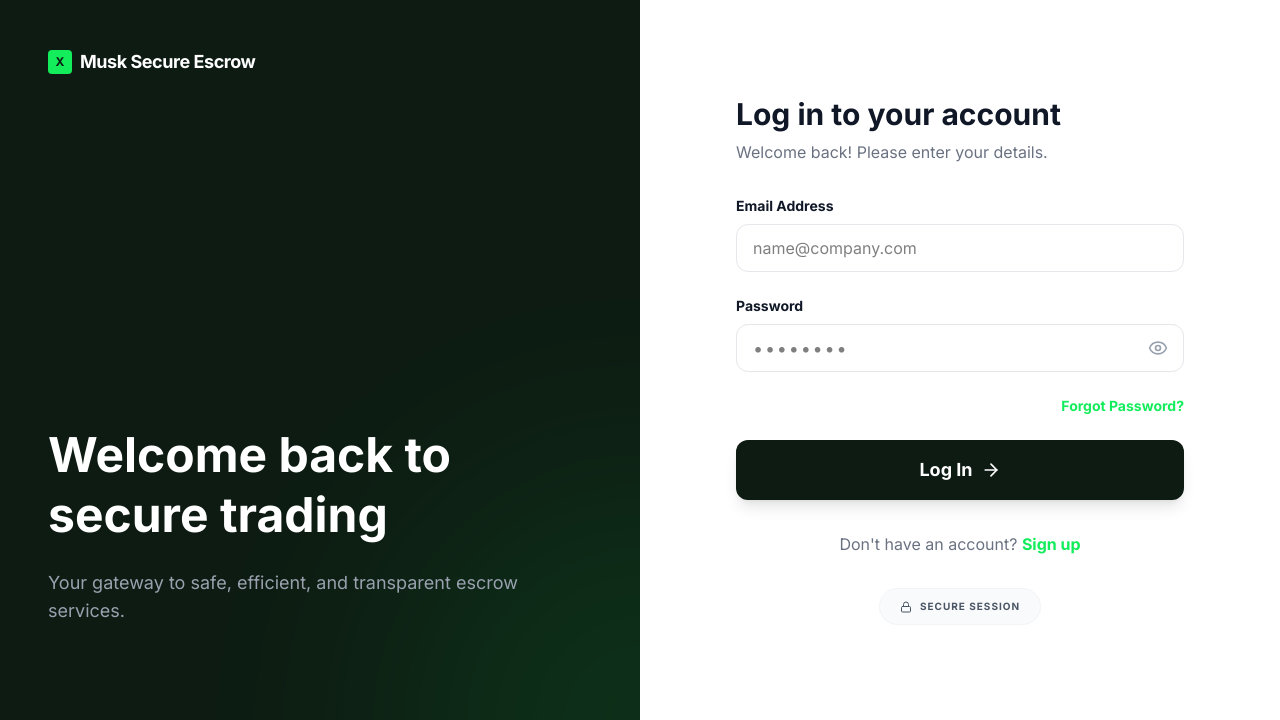
Test case: Login Flow › should show error message for invalid credentials
Type "invalid@test.com" into the field with test id "email-input" at (960, 248), box left=736, top=224, right=1184, bottom=272
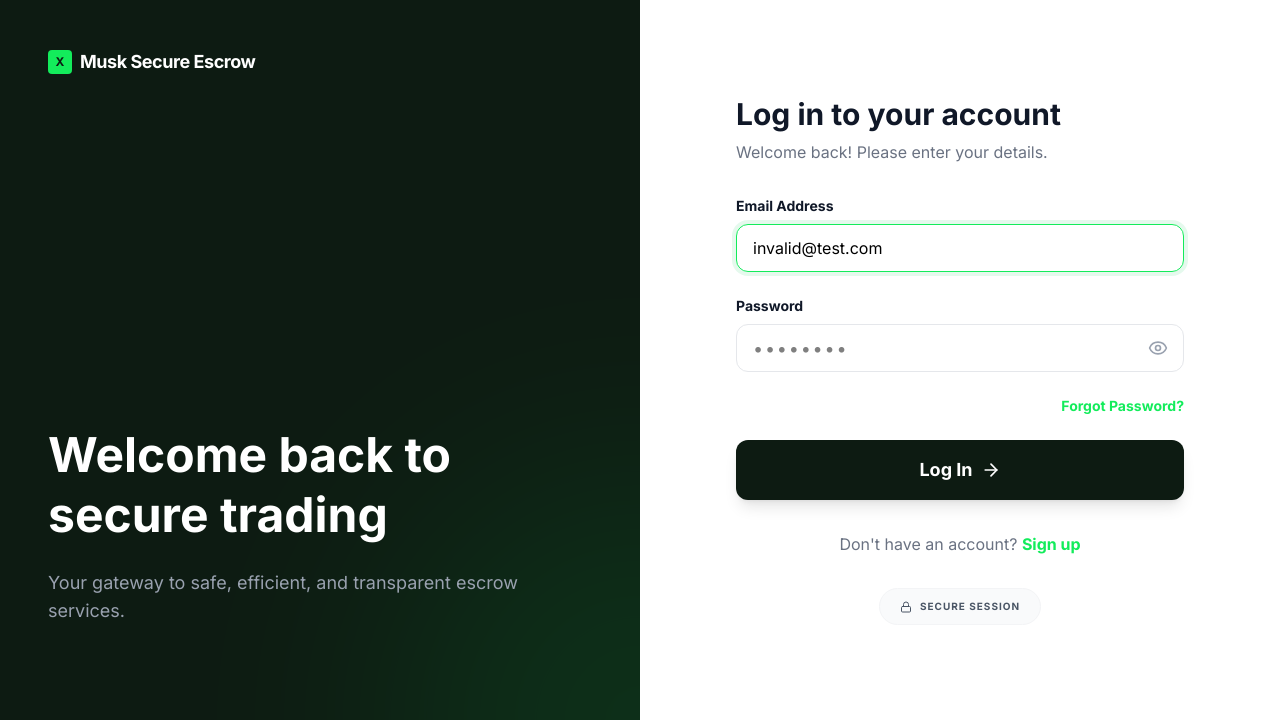
Type "wrongpassword" into the password field with test id "password-input" at (960, 348), box left=736, top=324, right=1184, bottom=372
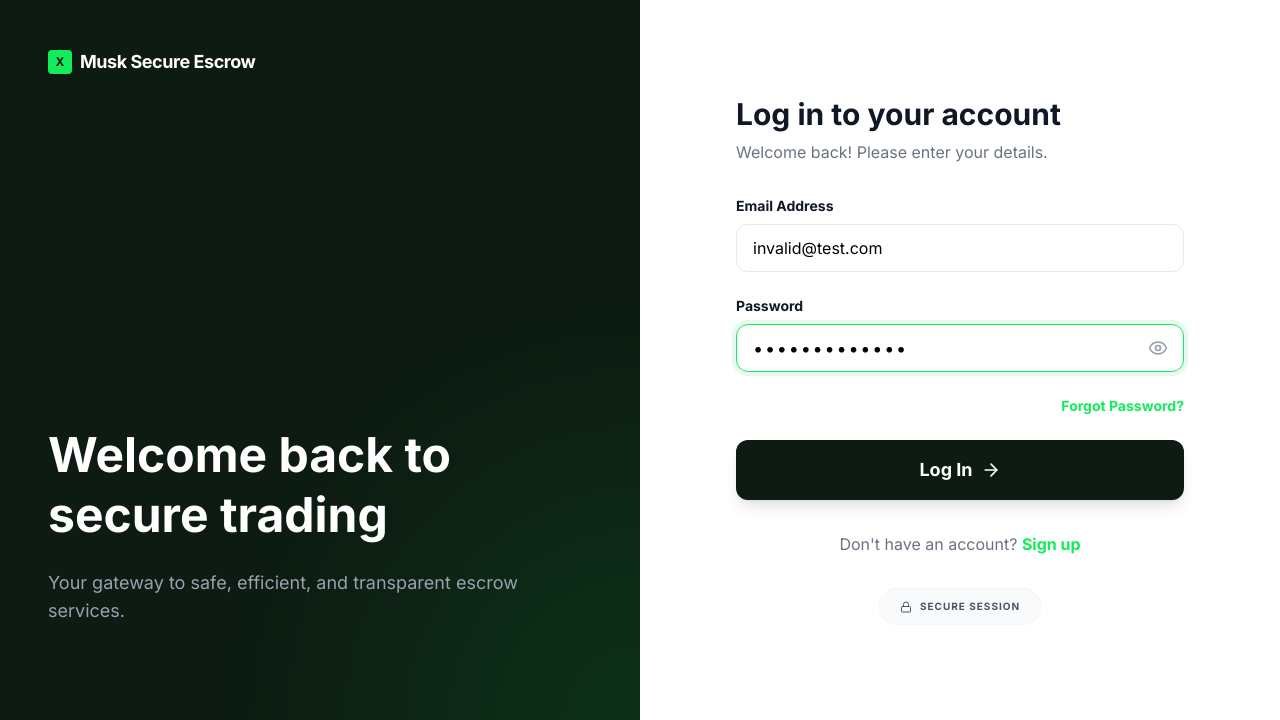
Click the button with test id "login-button" at (960, 470), box left=736, top=440, right=1184, bottom=500
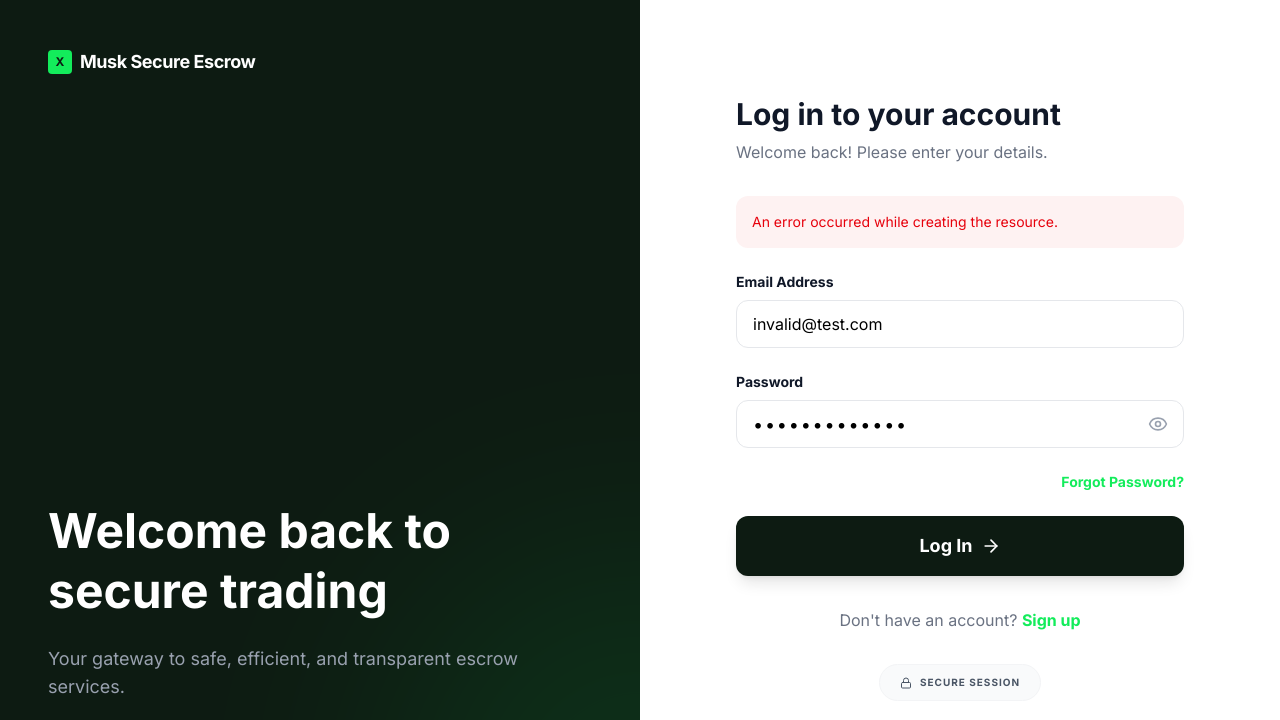
Result: the text "An error occurred while creating the resource." is shown at left=736, top=196, right=1184, bottom=248
